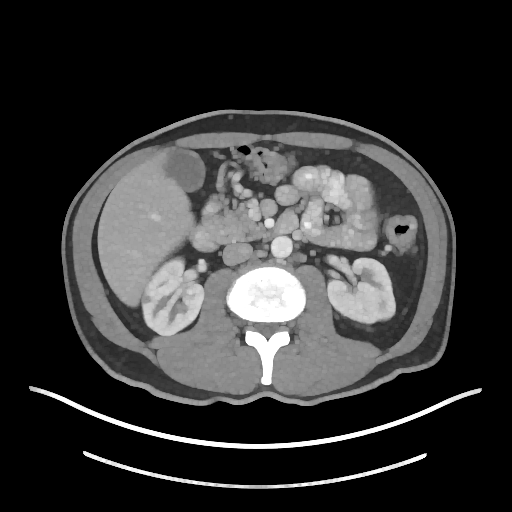Lesion: (140, 289, 153, 307)
